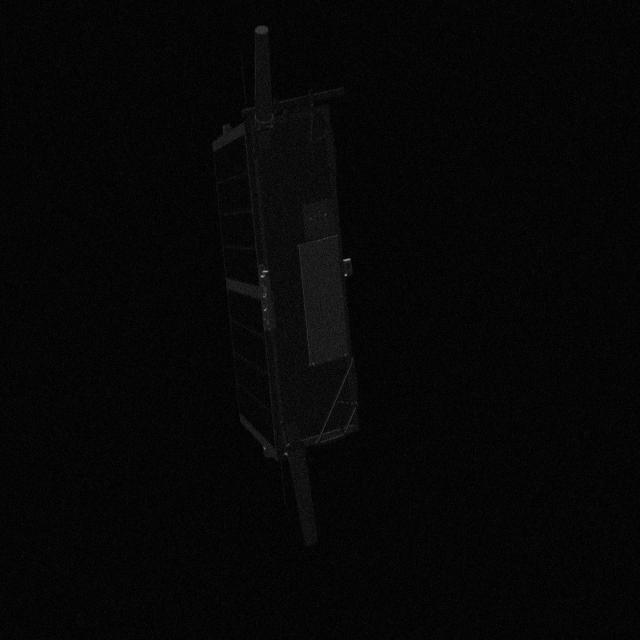satellite: (208, 20, 366, 546)
